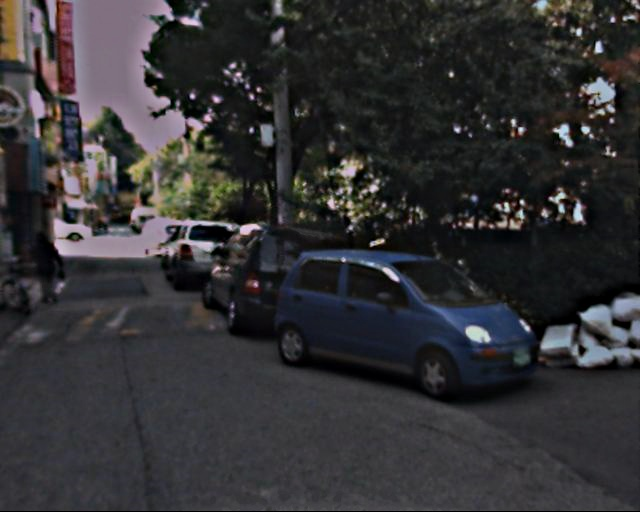person: (32, 226, 67, 305)
